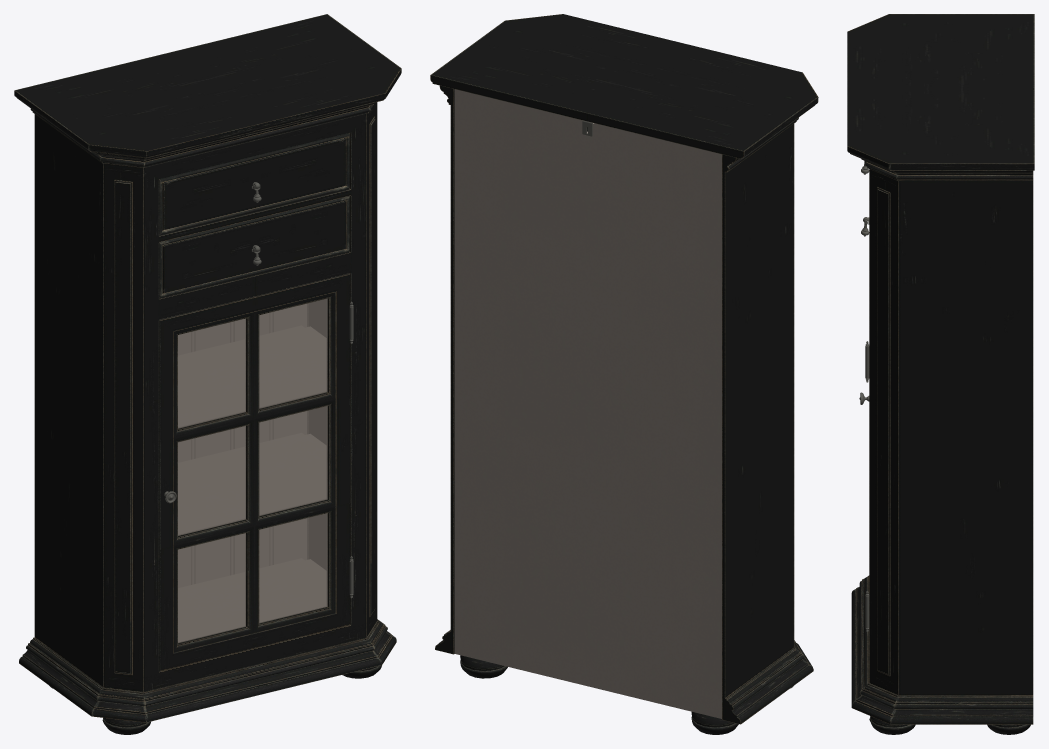
The model's file is example92.gltf.
3 views of the same model, side by side, from view 1: azimuth 30°, elevation 25°; view 2: azimuth 150°, elevation 25°; view 3: azimuth 270°, elevation 25° (orthographic). The views are drawn at different scales.
Size of the model in its own units: 80 by 145 by 42.3.
4 materials, 4 textured.
